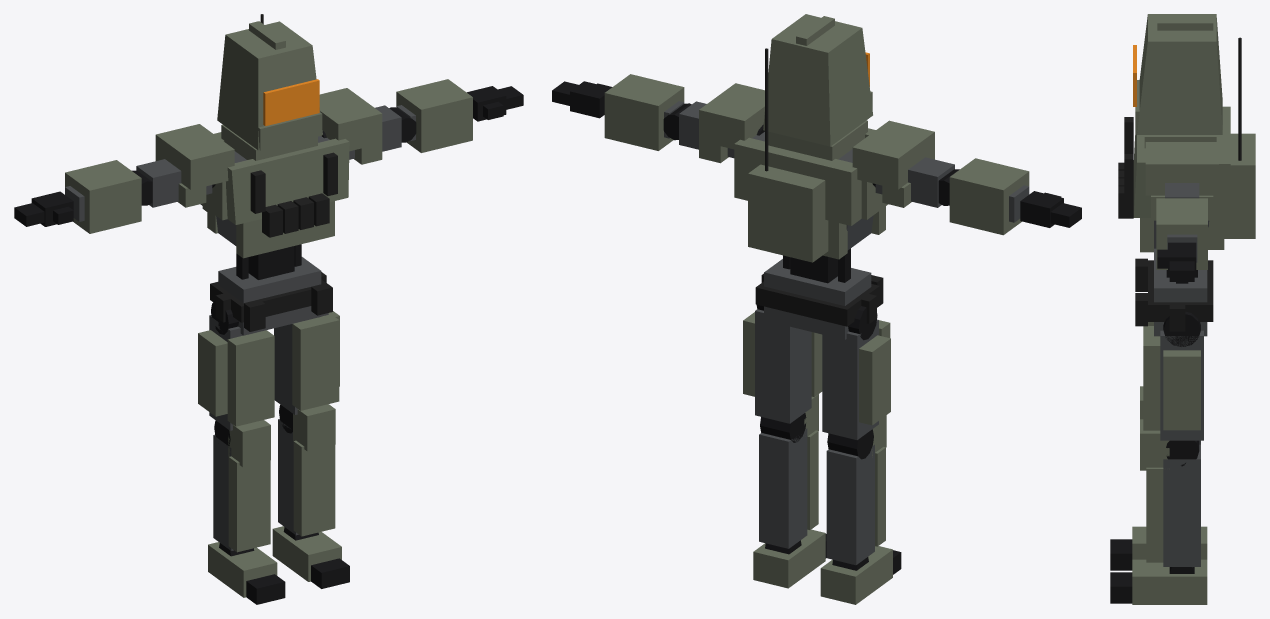
File: char_F1_squad_leader.obj
3 views of the same model, side by side, from view 1: azimuth 30°, elevation 25°; view 2: azimuth 150°, elevation 25°; view 3: azimuth 270°, elevation 25° (orthographic). The views are drawn at different scales.
Visible parts, largest first — view 1: Shin_Plates, Chassis, Thigh_Plates, Chest_Heavy, Helmet_Combat, ChassisJoints, Bracers, Pauldrons_Heavy, Rig_Mags, Belt_Combat, Helmet_Combat_Visor; view 2: Chassis, Helmet_Combat, Bracers, ChassisJoints, Shin_Plates, Pauldrons_Heavy, Chest_Heavy, Pack_Radio, Thigh_Plates, Belt_Combat; view 3: Helmet_Combat, Chassis, Shin_Plates, Thigh_Plates, ChassisJoints, Chest_Heavy, Pauldrons_Heavy, Pack_Radio, Belt_Combat, Bracers, Rig_Mags, Pack_Radio_Antenna (+1 smaller).
Boxes of the visible parts, box(x1,y1,x2,y2) form: Shin_Plates: box(208, 404, 341, 597); Chassis: box(65, 105, 415, 550); Thigh_Plates: box(198, 311, 339, 426); Chest_Heavy: box(200, 124, 349, 258); Helmet_Combat: box(217, 21, 322, 150); ChassisJoints: box(14, 86, 523, 604); Bracers: box(65, 79, 472, 233); Pauldrons_Heavy: box(155, 88, 382, 207); Rig_Mags: box(250, 152, 337, 237); Belt_Combat: box(210, 272, 332, 331); Helmet_Combat_Visor: box(263, 79, 319, 126); Chassis: box(664, 101, 1029, 565); Helmet_Combat: box(763, 14, 872, 146); Bracers: box(604, 74, 1029, 235); ChassisJoints: box(552, 81, 1081, 574); Shin_Plates: box(753, 394, 892, 604); Pauldrons_Heavy: box(699, 83, 934, 207); Chest_Heavy: box(734, 120, 887, 259); Pack_Radio: box(748, 164, 828, 262); Thigh_Plates: box(743, 312, 890, 425); Belt_Combat: box(755, 273, 883, 326); Helmet_Combat: box(1135, 14, 1222, 134); Chassis: box(1154, 183, 1209, 566); Shin_Plates: box(1132, 386, 1207, 604); Thigh_Plates: box(1143, 322, 1200, 430); ChassisJoints: box(1110, 242, 1200, 603); Chest_Heavy: box(1133, 106, 1230, 252); Pauldrons_Heavy: box(1145, 142, 1218, 216); Pack_Radio: box(1224, 133, 1255, 238); Belt_Combat: box(1135, 258, 1213, 331); Bracers: box(1156, 198, 1207, 269); Rig_Mags: box(1118, 117, 1133, 218); Pack_Radio_Antenna: box(1238, 37, 1241, 160).
Bounding box in the file's own units: 1.92 × 1.98 × 0.465.
